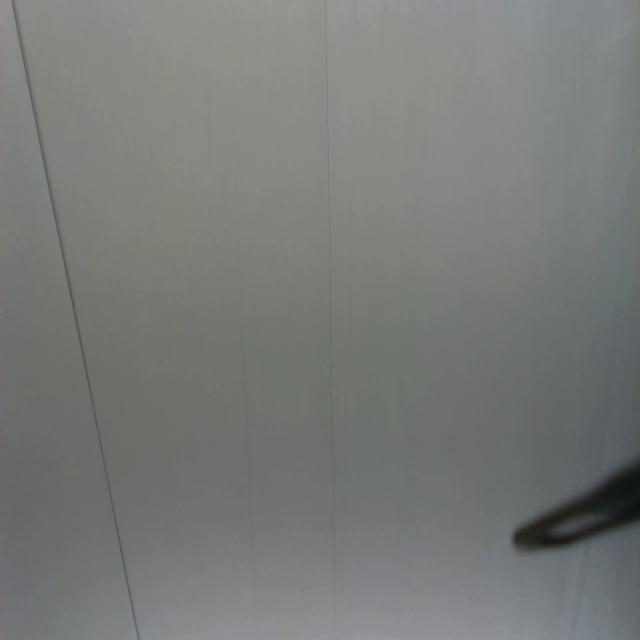crease: (11, 1, 141, 640), (320, 1, 340, 626), (234, 166, 259, 620)
